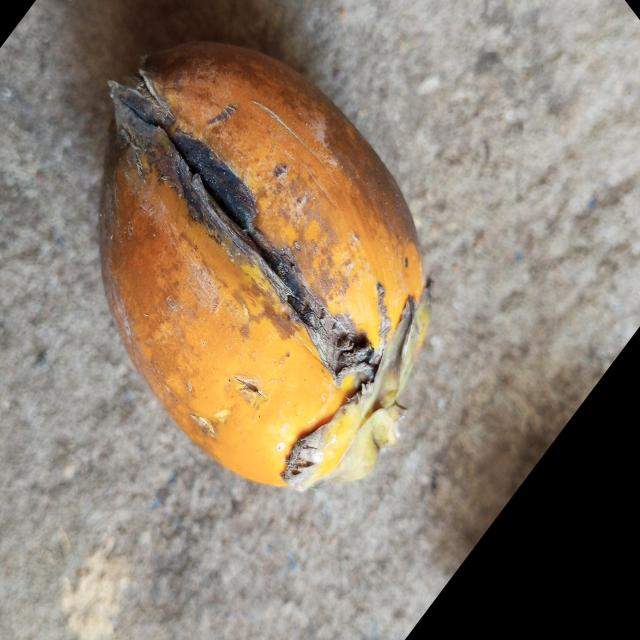damaged: (100, 43, 429, 490)
